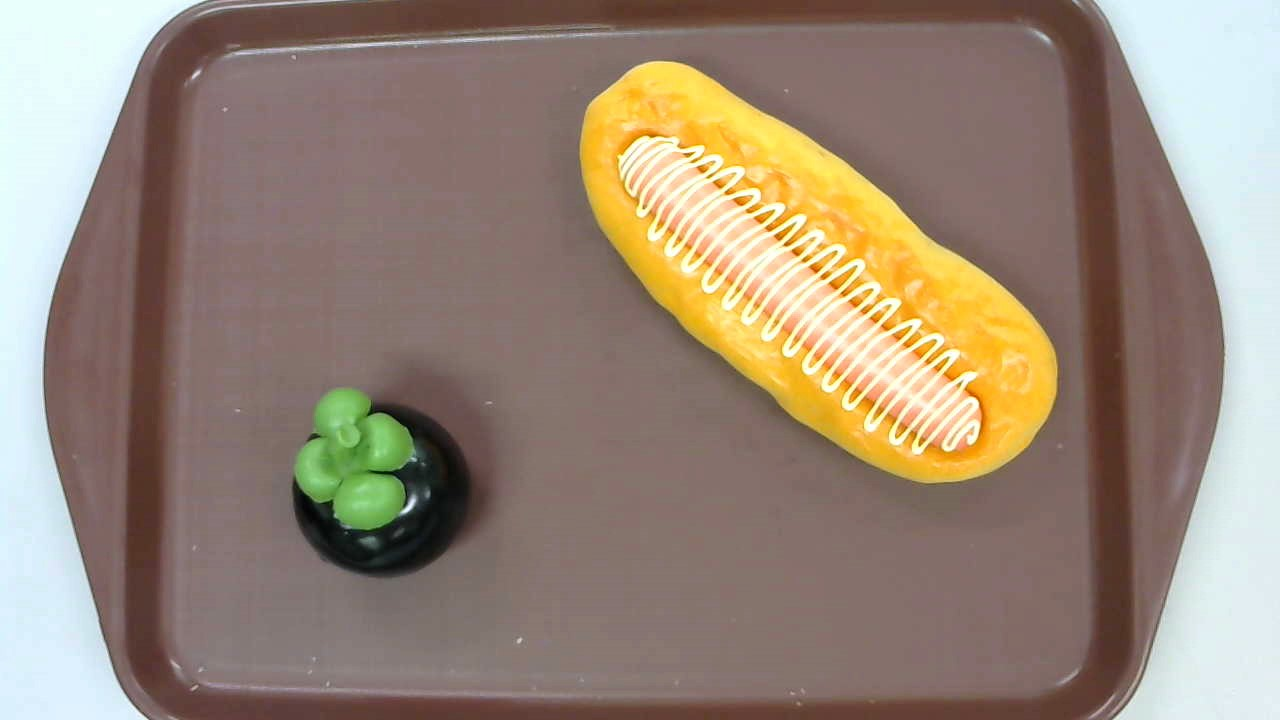hot dog: (580, 60, 1059, 484)
mangosteen: (292, 387, 468, 578)
